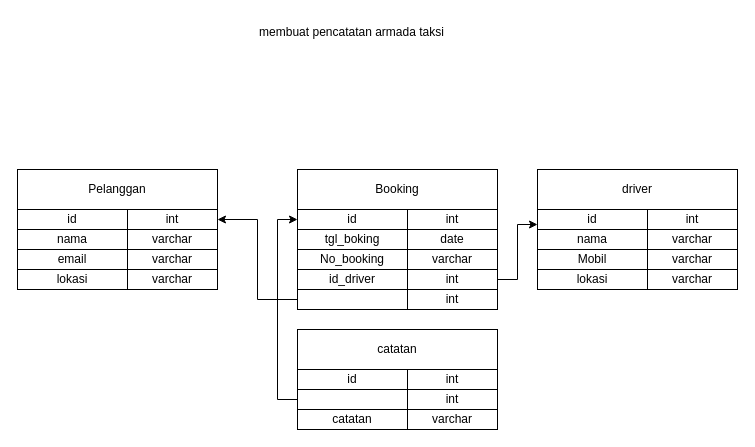
Image size: 755x447. Some labels were removed from this diagram. Here are the shapes that lost their labels. From the top down, the box of each, then its label:
(296, 288, 408, 310): id_pelanggan
(296, 388, 408, 410): id_booking
